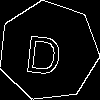D: (23, 26, 64, 76)
